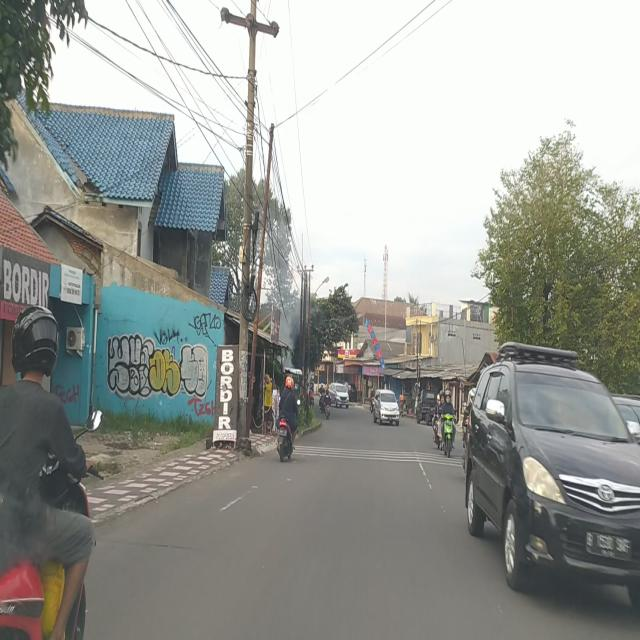Sewer Cover: (93, 532, 209, 554)
